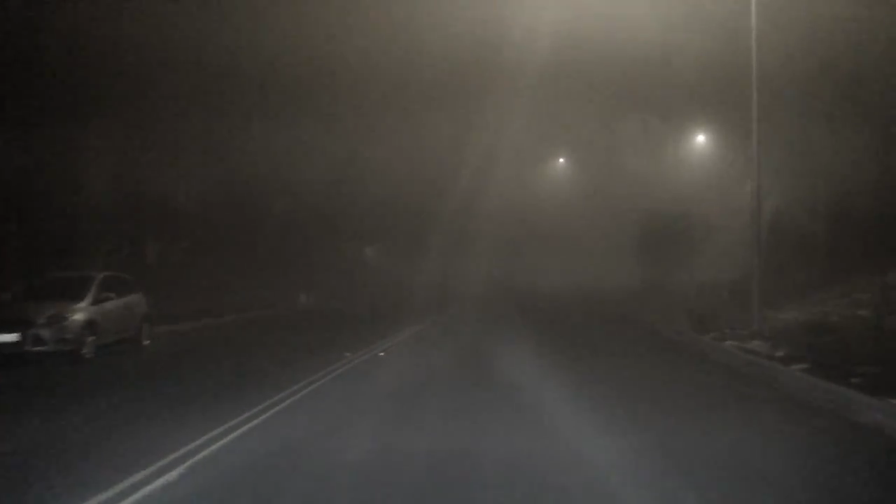car: (1, 270, 152, 363)
